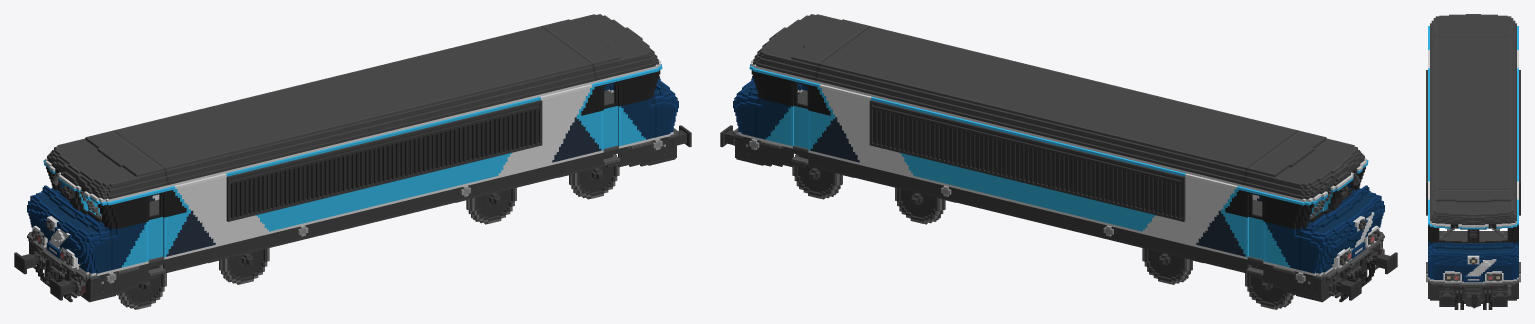
The model's file is rfs101000.obj.
The picture shows the model from 3 angles, left to right: view 1: azimuth 30°, elevation 25°; view 2: azimuth 150°, elevation 25°; view 3: azimuth 270°, elevation 25°; orthographic projection. The views are drawn at different scales.
Parts seen in each view (by area): view 1: FRAME_1, FRAME_3, FRAME_2, BOGEY_REAR_WHEEL_1, BOGEY_FRONT_WHEEL_2, BOGEY_REAR_WHEEL_2, BOGEY_FRONT_WHEEL_1; view 2: FRAME_1, FRAME_3, FRAME_2, BOGEY_REAR_WHEEL_1, BOGEY_FRONT_WHEEL_2, BOGEY_REAR_WHEEL_2, BOGEY_FRONT_WHEEL_1; view 3: FRAME_2, FRAME_1, FRAME_3, INTERIOR_LCG_cab2.
Part boxes in pixels (x1,y1,x2,y2): FRAME_1: [170, 40, 542, 258]; FRAME_3: [14, 116, 226, 302]; FRAME_2: [485, 14, 691, 181]; BOGEY_REAR_WHEEL_1: [558, 154, 619, 199]; BOGEY_FRONT_WHEEL_2: [208, 248, 269, 284]; BOGEY_REAR_WHEEL_2: [456, 187, 516, 224]; BOGEY_FRONT_WHEEL_1: [116, 264, 166, 309]; FRAME_1: [869, 40, 1241, 258]; FRAME_3: [1185, 116, 1397, 302]; FRAME_2: [720, 14, 926, 181]; BOGEY_REAR_WHEEL_1: [792, 154, 853, 199]; BOGEY_FRONT_WHEEL_2: [1142, 248, 1203, 284]; BOGEY_REAR_WHEEL_2: [895, 187, 955, 224]; BOGEY_FRONT_WHEEL_1: [1245, 264, 1295, 309]; FRAME_2: [1426, 169, 1520, 309]; FRAME_1: [1426, 56, 1520, 215]; FRAME_3: [1428, 14, 1518, 68]; INTERIOR_LCG_cab2: [1439, 231, 1507, 241].
Bounding box in the file's own units: 17.69 × 3.88 × 3.12.
Materials: 1 (1 with a texture image).
